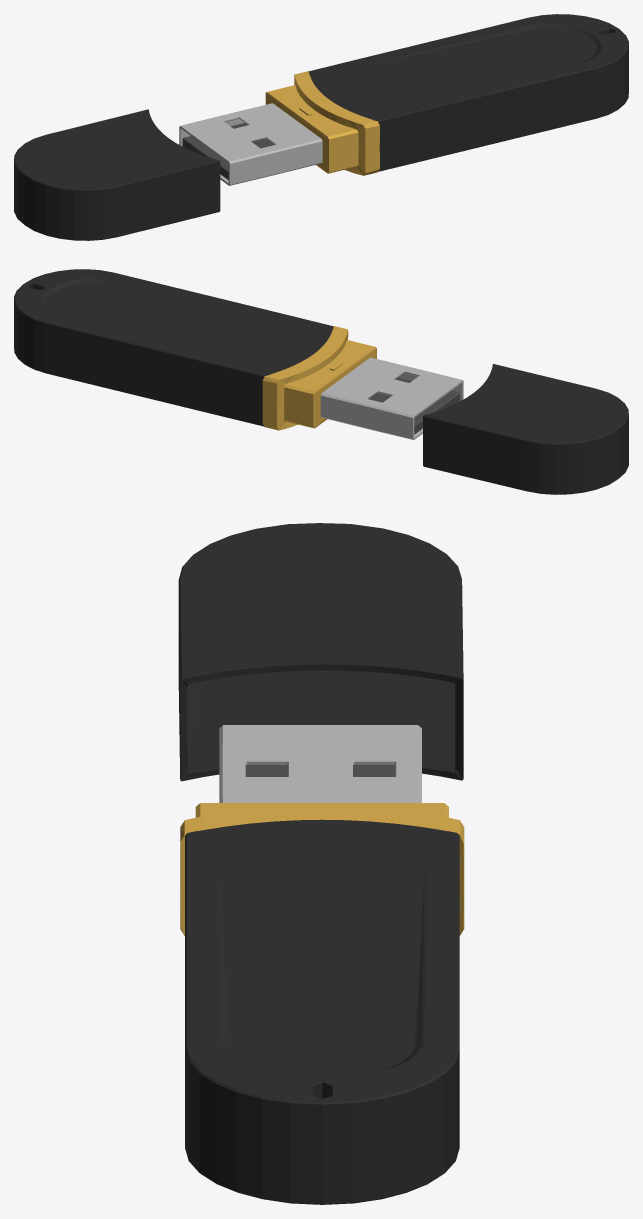
Rendered from obfd.fbx.
The picture shows the model from 3 angles, top to bottom: view 1: azimuth 30°, elevation 25°; view 2: azimuth 150°, elevation 25°; view 3: azimuth 270°, elevation 25°; orthographic projection. The views are drawn at different scales.
Visible parts, largest first — view 1: Transcenf; view 2: Transcenf; view 3: Transcenf.
Part boxes in pixels (x1,y1,x2,y2): Transcenf: (14, 14, 628, 240); Transcenf: (14, 269, 628, 494); Transcenf: (178, 523, 464, 1204).
Bounding box in the file's own units: 728 × 60.16 × 151.
